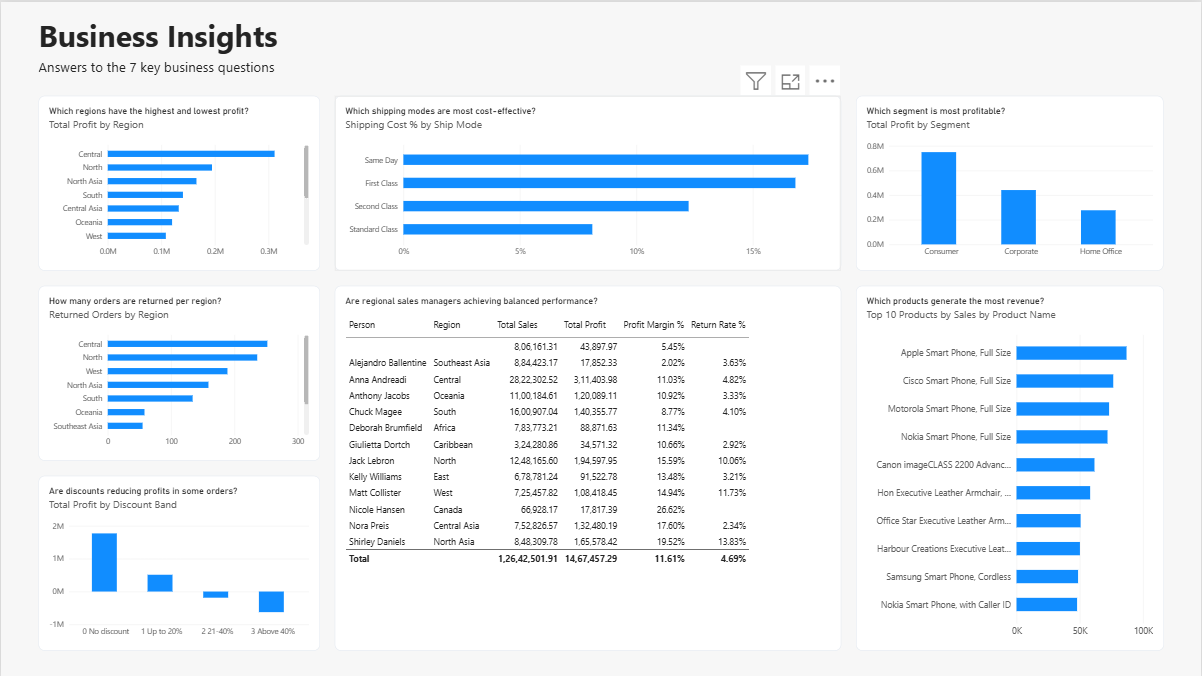

The dashboard page shown, as its layout file describes it:
{"tool":"powerbi","page":{"name":"Insights","canvas":[1920,1080],"ordinal":2},"visuals":[{"type":"textbox","box":[60,20,1000,66],"z":0},{"type":"textbox","box":[60,88,1000,30],"z":1000},{"type":"clusteredBarChart","title":"Which regions have the highest and lowest profit?","fields":{"Category":["Orders.Region"],"Y":["Orders.Total Profit"]},"box":[60,150,450,280],"z":2000},{"type":"columnChart","title":"Which segment is most profitable?","fields":{"Category":["Orders.Segment"],"Y":["Orders.Total Profit"]},"box":[1367.5,150,492,280],"z":3000},{"type":"clusteredBarChart","title":"How many orders are returned per region?","fields":{"Category":["Orders.Region"],"Y":["Orders.Returned Orders"]},"box":[60,454,450,280],"z":4000},{"type":"clusteredColumnChart","title":"Are discounts reducing profits in some orders?","fields":{"Category":["Orders.Discount Band"],"Y":["Orders.Total Profit"]},"box":[60,757,450,280],"z":5000},{"type":"clusteredBarChart","title":"Which shipping modes are most cost-effective?","fields":{"Category":["Orders.Ship Mode"],"Y":["Orders.Shipping Cost %"]},"box":[534,150,810,280],"z":6000},{"type":"tableEx","title":"Are regional sales managers achieving balanced performance?","fields":{"Values":["People.Person","People.Region","Orders.Total Sales","Orders.Total Profit","Orders.Profit Margin %","Orders.Return Rate %"]},"box":[534,454,810,584],"z":7000},{"type":"clusteredBarChart","title":"Which products generate the most revenue?","fields":{"Category":["Orders.Product Name"],"Y":["Orders.Top 10 Products by Sales"]},"box":[1367.5,453.8,492.5,583.8],"z":8000}]}

Visuals, with their boxes in screenshot pixels (x1, y1, x2, y2), scaled from the page's 1920x1080 canvas onto the 1202x676 screenshot:
textbox: box(38, 13, 664, 54)
textbox: box(38, 55, 664, 74)
"Which regions have the highest and lowest profit?" clusteredBarChart: box(38, 94, 319, 269)
"Which segment is most profitable?" columnChart: box(856, 94, 1164, 269)
"How many orders are returned per region?" clusteredBarChart: box(38, 284, 319, 459)
"Are discounts reducing profits in some orders?" clusteredColumnChart: box(38, 474, 319, 649)
"Which shipping modes are most cost-effective?" clusteredBarChart: box(334, 94, 841, 269)
"Are regional sales managers achieving balanced performance?" tableEx: box(334, 284, 841, 650)
"Which products generate the most revenue?" clusteredBarChart: box(856, 284, 1164, 649)
